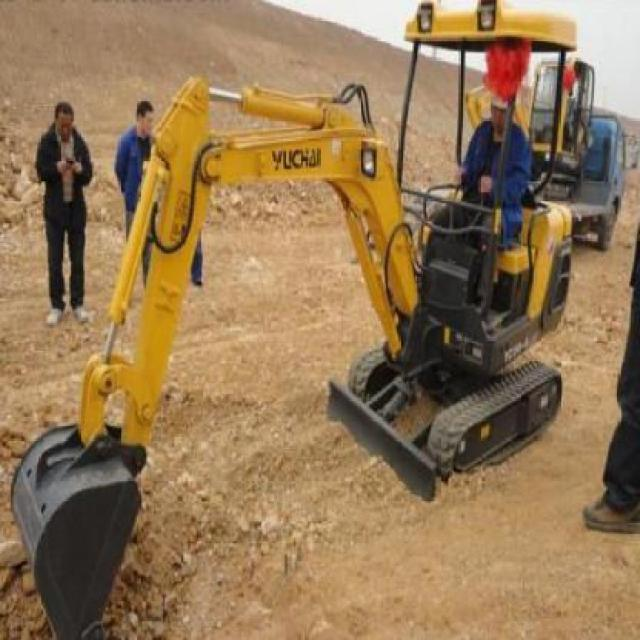Excavator: (11, 0, 574, 638)
